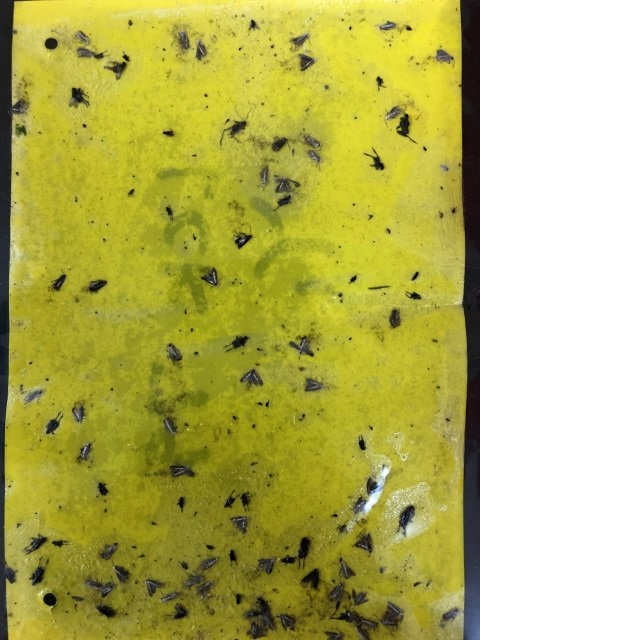DBM: (42, 266, 71, 294), (288, 334, 317, 361), (272, 172, 304, 196), (352, 531, 377, 558), (239, 367, 267, 391), (20, 384, 45, 409), (323, 580, 346, 606), (297, 50, 320, 75), (233, 225, 254, 252), (163, 339, 184, 366), (434, 45, 457, 69), (72, 439, 95, 463), (439, 603, 464, 625), (256, 553, 277, 579), (169, 602, 191, 626), (382, 599, 406, 621), (302, 374, 325, 396), (336, 557, 358, 580), (109, 566, 134, 586), (255, 162, 271, 193), (287, 31, 313, 50), (167, 461, 193, 480), (192, 40, 212, 64), (275, 613, 299, 633), (198, 553, 221, 573), (230, 513, 250, 536), (201, 266, 221, 288), (350, 587, 370, 609), (161, 415, 179, 439), (334, 607, 361, 623), (387, 306, 404, 331), (145, 578, 166, 598), (81, 575, 109, 590), (180, 572, 203, 589), (356, 615, 380, 631), (98, 540, 118, 559), (303, 132, 324, 150), (303, 149, 324, 167), (196, 579, 217, 597), (375, 17, 397, 34), (384, 102, 401, 124), (71, 403, 88, 425), (75, 45, 98, 61), (261, 613, 278, 633), (176, 30, 191, 52), (244, 622, 262, 640), (321, 628, 345, 640), (75, 29, 93, 44), (101, 582, 117, 598), (161, 590, 181, 602), (353, 628, 373, 640)
